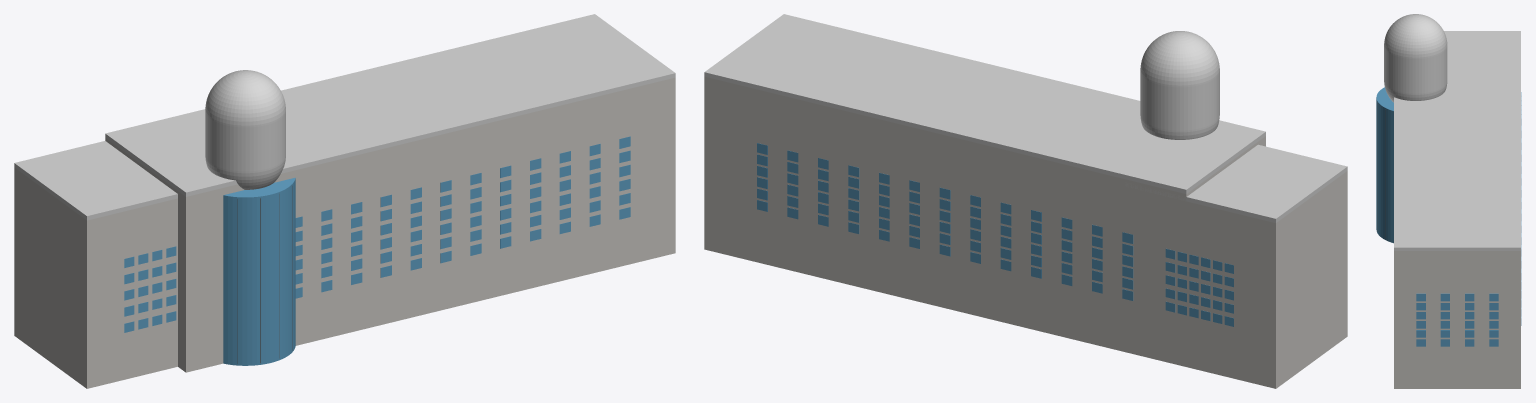
Rendered from campus_building.glb.
3 views of the same model, side by side, from view 1: azimuth 30°, elevation 25°; view 2: azimuth 150°, elevation 25°; view 3: azimuth 270°, elevation 25° (orthographic). The views are drawn at different scales.
Visible parts, largest first — view 1: part_0, part_4, part_1, part_2, part_6, part_3, part_5, part_9, part_11; view 2: part_0, part_4, part_1, part_7, part_3, part_5, part_10; view 3: part_4, part_0, part_3, part_2, part_5, part_8, part_11, part_7.
Boxes of the visible parts, x1,y1,x2,y2 form: part_0: [105, 77, 675, 372]; part_4: [105, 14, 675, 196]; part_1: [14, 167, 177, 388]; part_2: [223, 177, 295, 365]; part_6: [295, 136, 630, 298]; part_3: [205, 70, 285, 189]; part_5: [14, 141, 177, 220]; part_9: [124, 246, 176, 332]; part_11: [237, 186, 292, 363]; part_0: [704, 76, 1265, 366]; part_4: [704, 14, 1265, 193]; part_1: [1124, 171, 1347, 388]; part_7: [757, 143, 1133, 300]; part_3: [1140, 31, 1219, 139]; part_5: [1125, 144, 1347, 222]; part_10: [1165, 248, 1233, 326]; part_4: [1394, 60, 1520, 250]; part_0: [1394, 251, 1520, 388]; part_3: [1384, 14, 1447, 102]; part_2: [1376, 87, 1393, 243]; part_5: [1444, 31, 1520, 59]; part_8: [1416, 293, 1498, 346]; part_11: [1377, 102, 1385, 238]; part_7: [1521, 127, 1521, 325].
Size of the model in its own units: 83.1 by 37 by 22.89.
